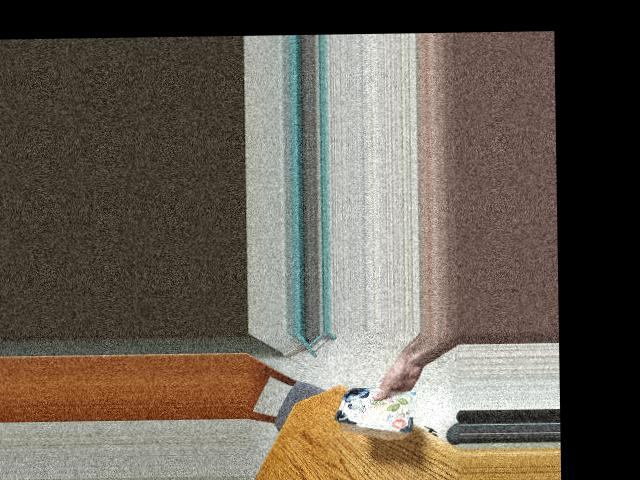cheese: (338, 379, 413, 435)
